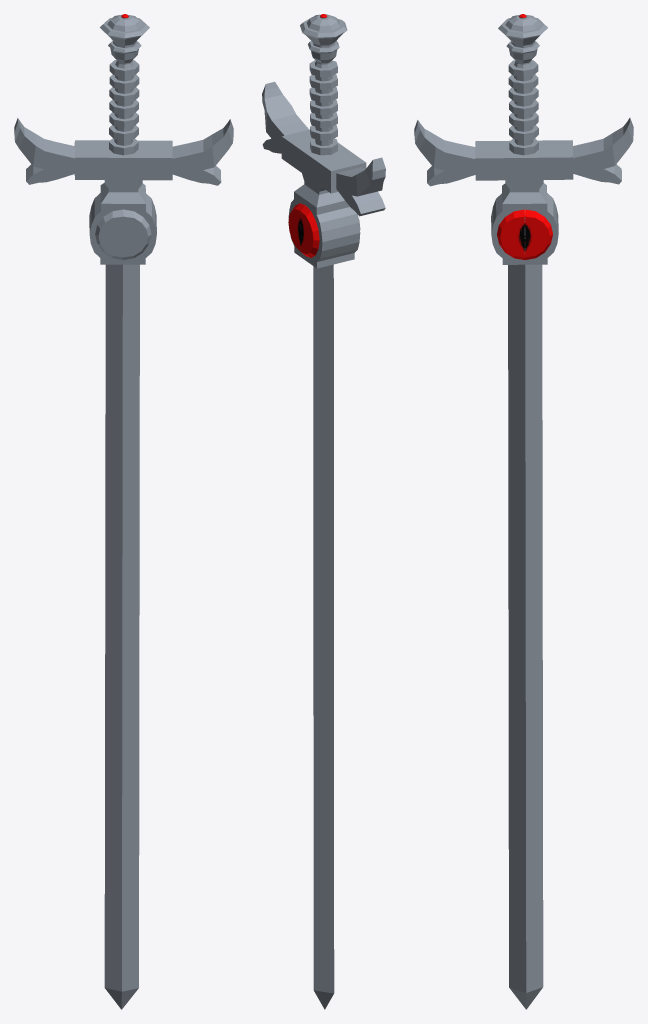
The model's file is Sword.glb.
3 renders of one model, left to right at view 1: azimuth 90°, elevation 25°; view 2: azimuth 210°, elevation 25°; view 3: azimuth 270°, elevation 25°, orthographic.
Visible parts, largest first — view 1: Sword; view 2: Sword; view 3: Sword.
Part boxes in pixels (x1,y1,x2,y2): Sword: (14,14,233,1009); Sword: (262,14,385,1009); Sword: (414,14,633,1009).
Bounding box in the file's own units: 0.1026 × 2.06 × 0.4115.
Materials: 1 (1 with a texture image).
